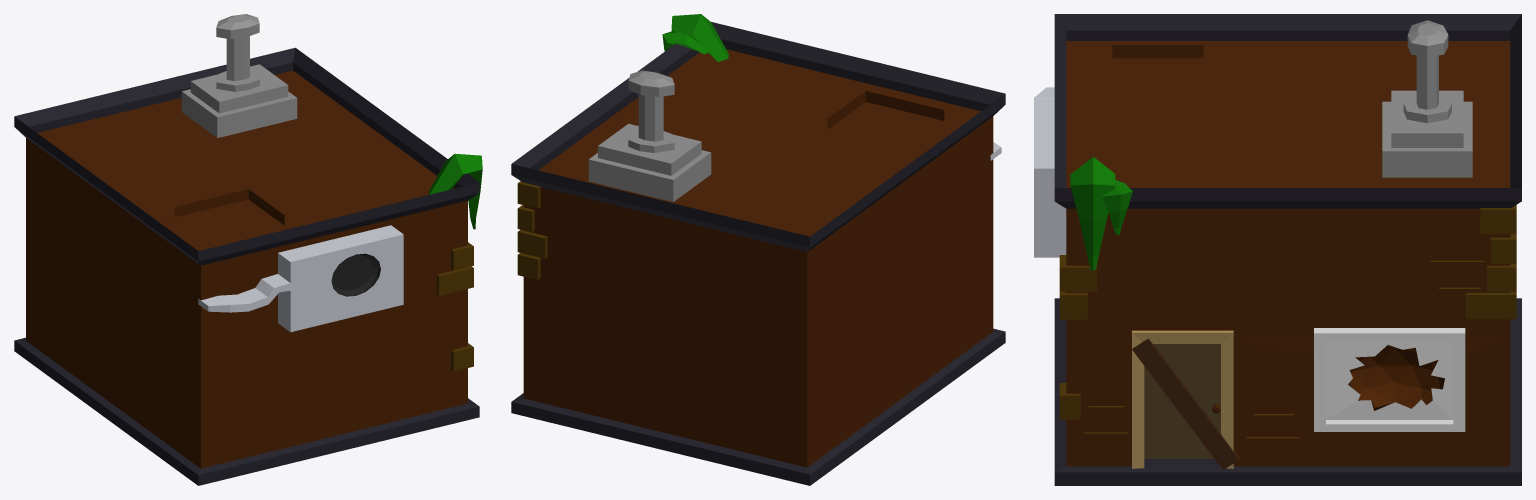
File: magazin.fbx
3 views of the same model, side by side, from view 1: azimuth 30°, elevation 25°; view 2: azimuth 150°, elevation 25°; view 3: azimuth 270°, elevation 25° (orthographic). The views are drawn at different scales.
Parts seen in each view (by area): view 1: Cube, Cube.002, Plane; view 2: Cube, Cube.002, Plane; view 3: Cube, Cube.002, Plane, Cube.001.
Boxes of the visible parts, x1,y1,x2,y2 form: Cube: (14, 14, 479, 485); Cube.002: (436, 242, 473, 371); Plane: (428, 153, 482, 229); Cube: (511, 22, 1005, 485); Cube.002: (517, 181, 547, 279); Plane: (662, 14, 728, 61); Cube: (1034, 14, 1521, 485); Cube.002: (1059, 205, 1516, 438); Plane: (1070, 156, 1132, 270); Cube.001: (1132, 338, 1239, 469).
Size of the model in its own units: 756 by 759 by 843.
